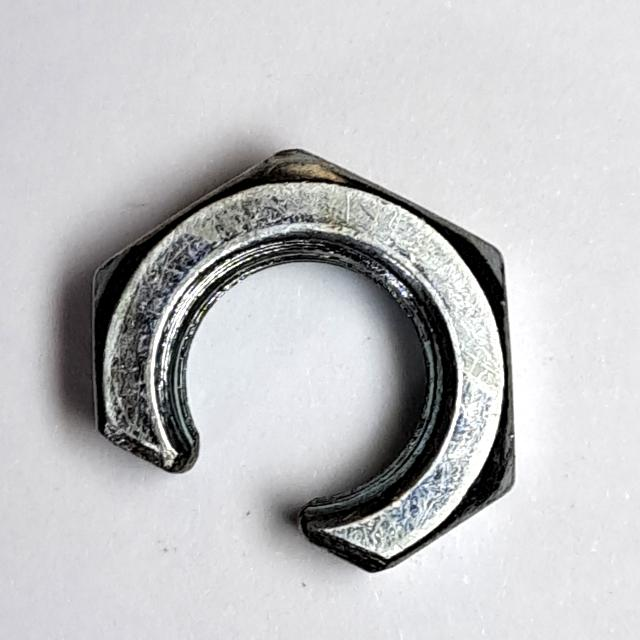Fracture: (72, 119, 539, 590)
